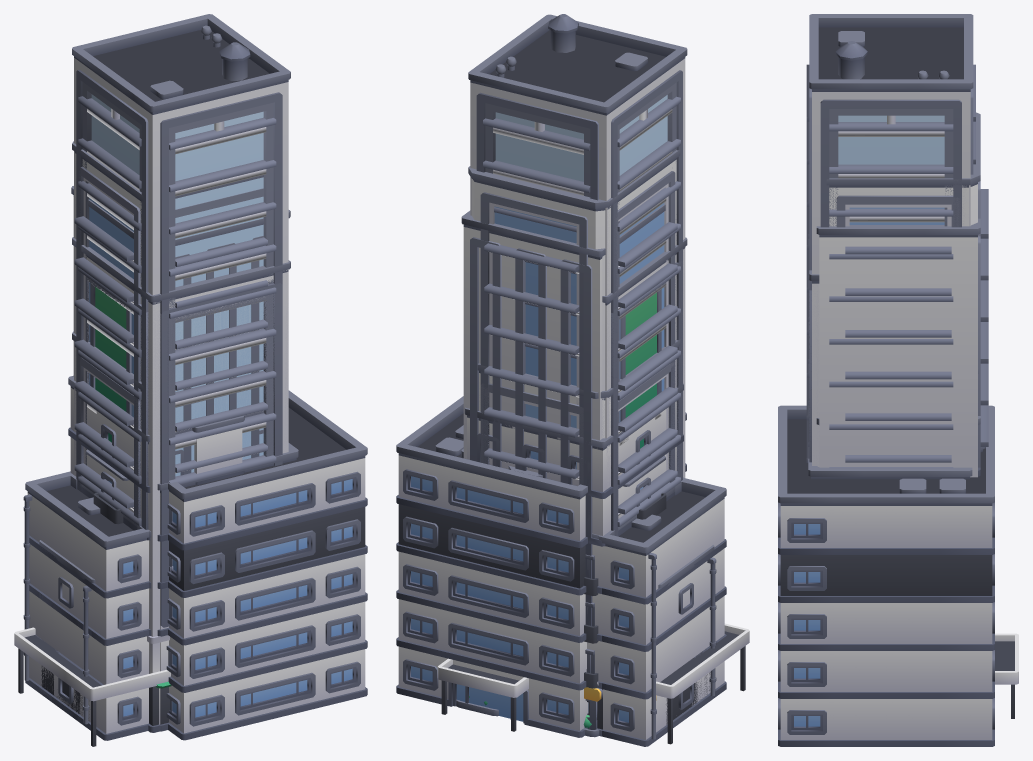
File: lib-city.glb
3 renders of one model, left to right at view 1: azimuth 30°, elevation 25°; view 2: azimuth 150°, elevation 25°; view 3: azimuth 270°, elevation 25°, orthographic.
Parts seen in each view (by area): view 1: building-skyscraper-d, building-n, building-skyscraper-c, building-j, building-skyscraper-b, building-skyscraper-e, building-k, building-skyscraper-a, building-m, building-l; view 2: building-n, building-skyscraper-d, building-skyscraper-b, building-skyscraper-e, building-j, building-m, building-skyscraper-a, building-skyscraper-c, building-k, building-i; view 3: building-n, building-skyscraper-d, building-skyscraper-e, building-skyscraper-b, building-skyscraper-c, building-skyscraper-a, building-l.
Boxes of the visible parts, x1,y1,x2,y2 form: building-skyscraper-d: (72,14,290,635); building-n: (14,390,367,746); building-skyscraper-c: (72,237,290,732); building-j: (23,471,149,740); building-skyscraper-b: (72,141,267,526); building-skyscraper-e: (71,186,290,480); building-k: (39,540,95,730); building-skyscraper-a: (72,331,267,526); building-m: (68,375,263,629); building-l: (93,443,298,731); building-n: (396,396,749,744); building-skyscraper-d: (468,14,687,535); building-skyscraper-b: (468,150,680,535); building-skyscraper-e: (461,204,665,729); building-j: (583,478,726,746); building-m: (464,383,683,736); building-skyscraper-a: (477,339,680,729); building-skyscraper-c: (525,237,687,536); building-k: (656,545,716,730); building-i: (584,477,684,728); building-n: (778,405,1018,746); building-skyscraper-d: (806,14,975,468); building-skyscraper-e: (816,218,980,477); building-skyscraper-b: (808,112,988,457); building-skyscraper-c: (806,270,953,468); building-skyscraper-a: (808,363,988,462); building-l: (808,447,985,479).
Bounding box in the file's own units: 2.32 × 5.47 × 1.82.
3 materials, 3 textured.
